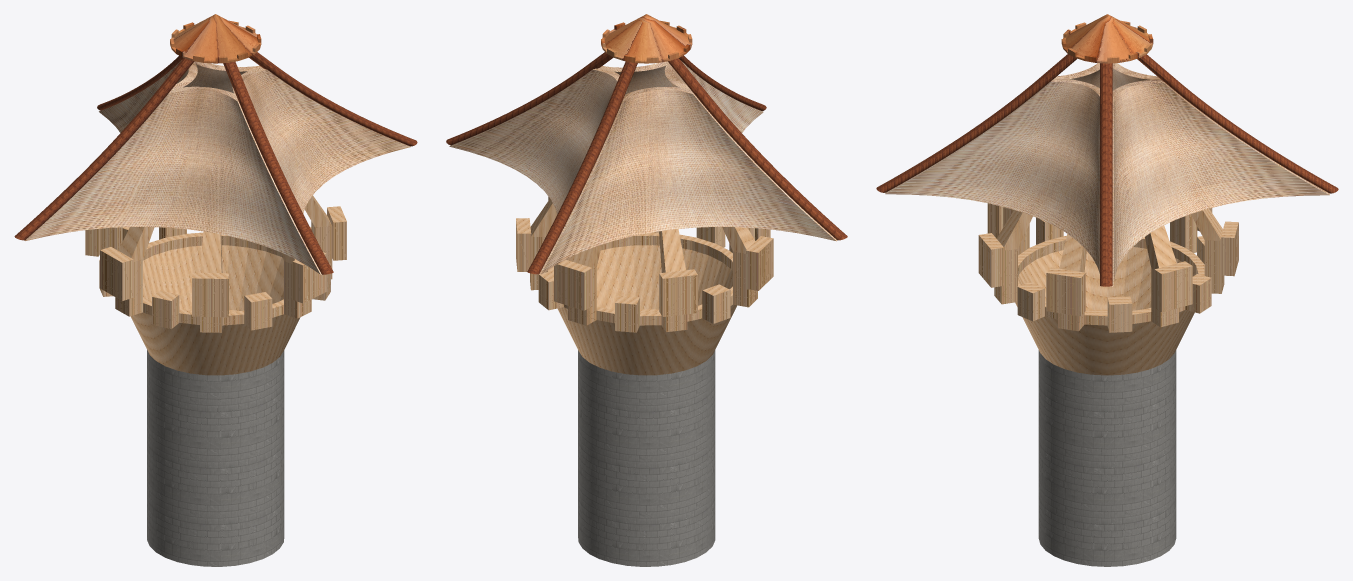
File: TestTower.FBX
The picture shows the model from 3 angles, left to right: view 1: azimuth 30°, elevation 25°; view 2: azimuth 150°, elevation 25°; view 3: azimuth 270°, elevation 25°; orthographic projection.
Visible parts, largest first — view 1: Circle002, TowerTop, TewtTower_base; view 2: Circle002, TowerTop, TewtTower_base; view 3: Circle002, TowerTop, TewtTower_base.
Boxes of the visible parts, x1=… form: Circle002: x1=14, y1=14, x2=417, y2=375; TowerTop: x1=24, y1=60, x2=410, y2=274; TewtTower_base: x1=147, y1=350, x2=284, y2=566; Circle002: x1=446, y1=14, x2=847, y2=375; TowerTop: x1=449, y1=61, x2=837, y2=274; TewtTower_base: x1=578, y1=350, x2=715, y2=566; Circle002: x1=876, y1=14, x2=1338, y2=375; TowerTop: x1=885, y1=63, x2=1329, y2=286; TewtTower_base: x1=1038, y1=350, x2=1176, y2=566.
Size of the model in its own units: 67.07 by 83.85 by 67.07.
